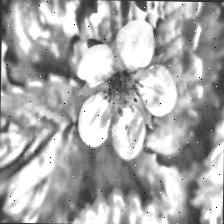Blossom Blight: (102, 63, 146, 118)
